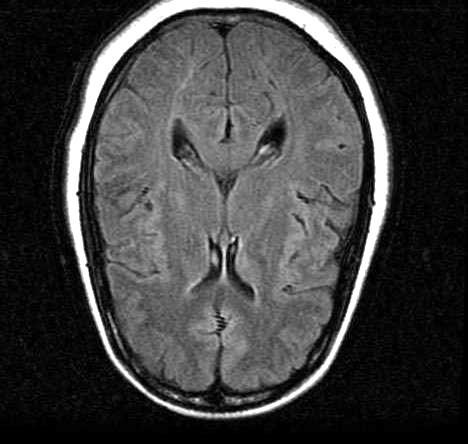Normal_Brain: (40, 1, 428, 444)
